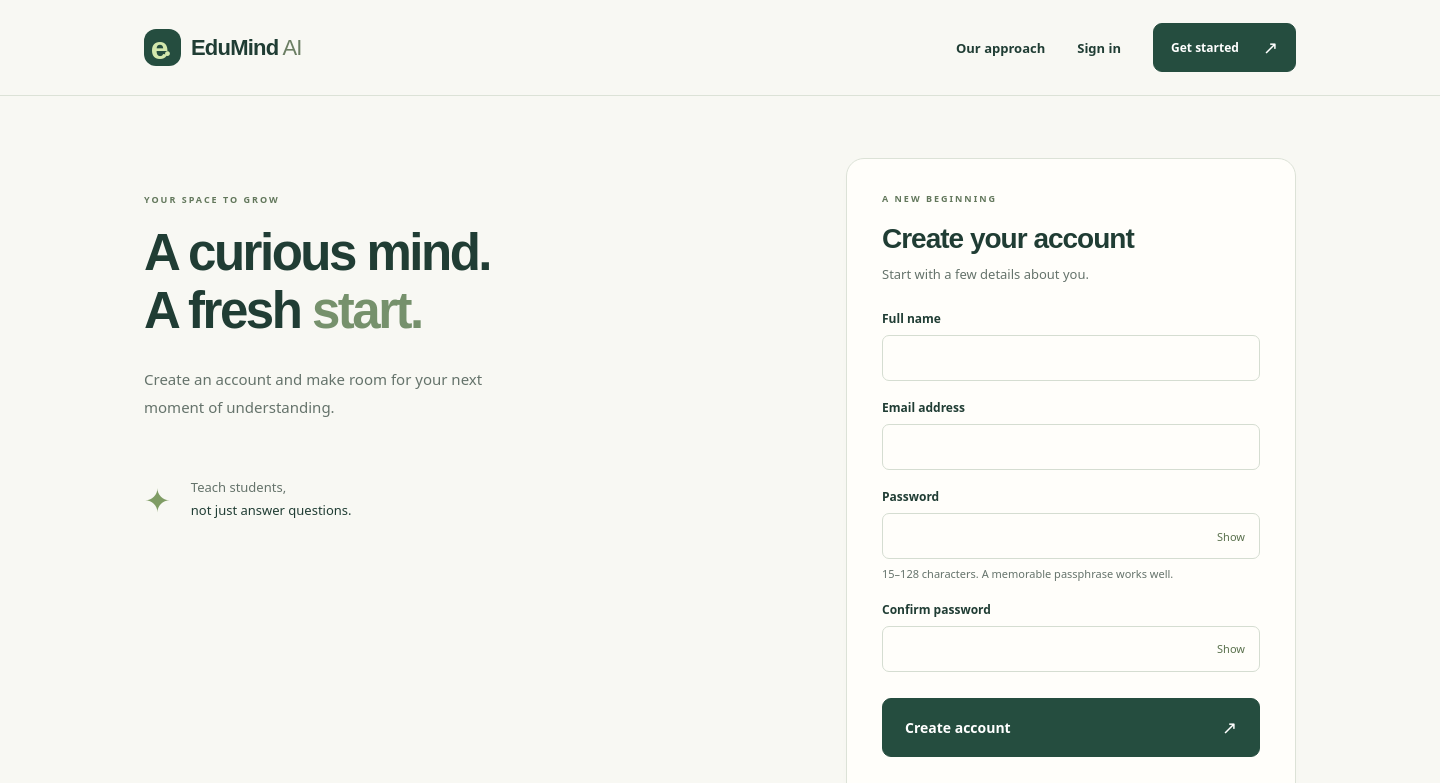
it: validates registration before sending an API mutation
Click the button "Create account ↗" at (958, 727), box x1=882 y1=698 x2=1260 y2=757
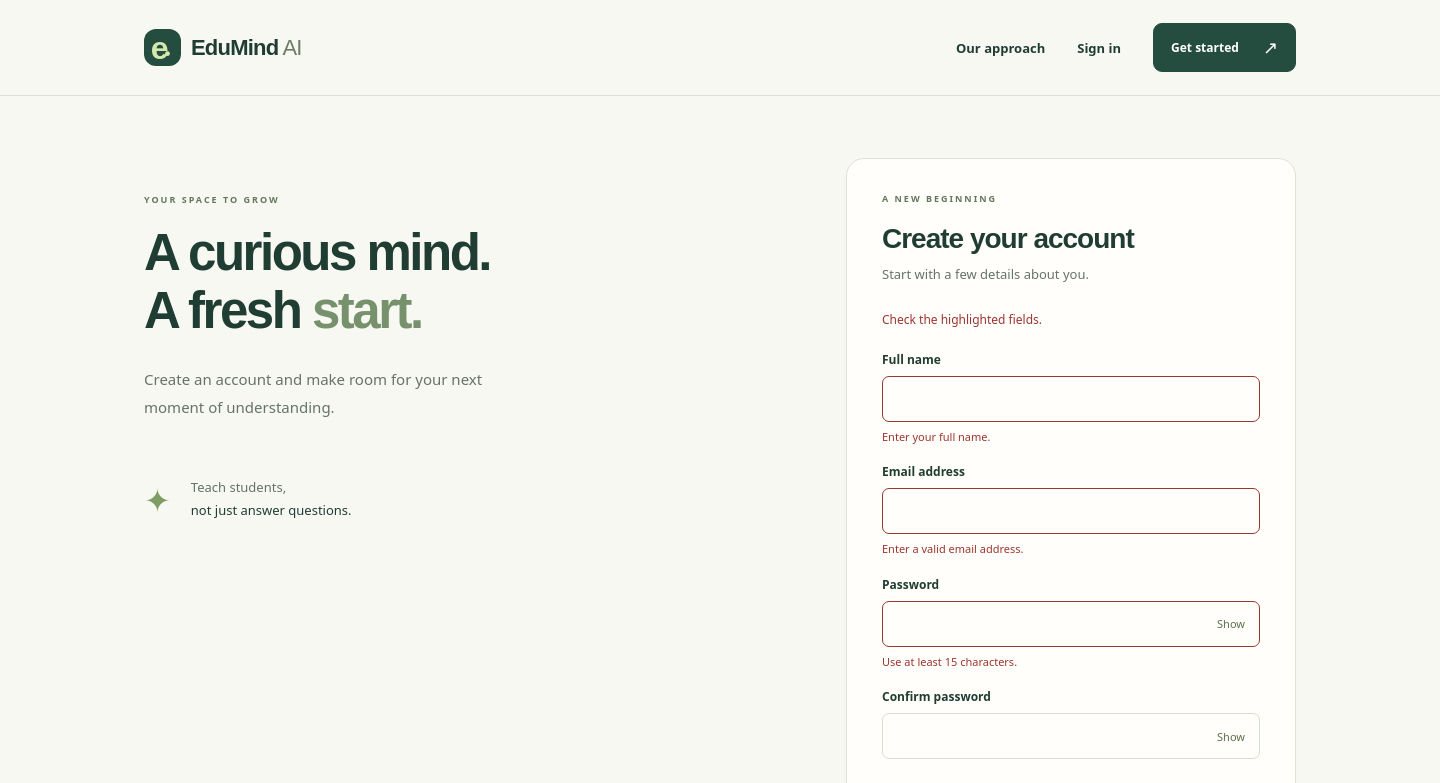
Expected: the message reads "Check the highlighted fields.", x1=882 y1=312 x2=1042 y2=328
Expected: the text "Enter a valid email address." is shown, x1=882 y1=541 x2=1024 y2=556
